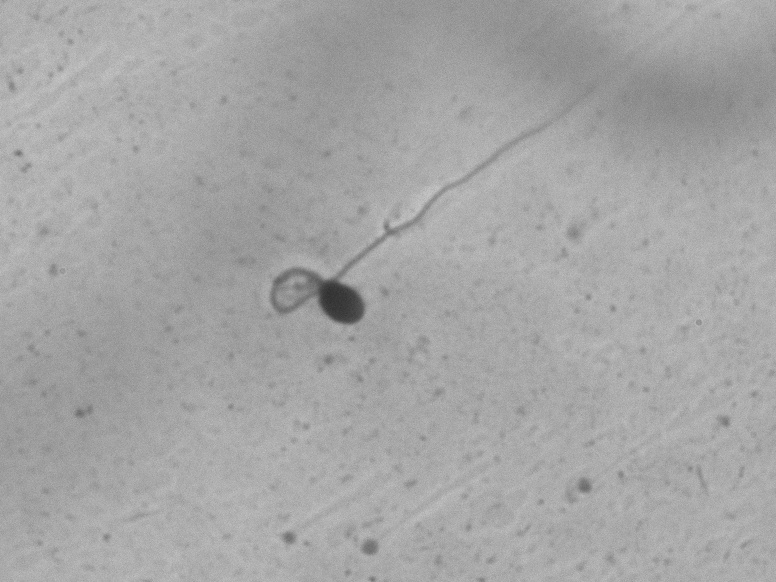Abnormal: (220, 71, 659, 368)
